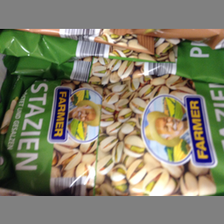nuts: (1, 76, 224, 195)
